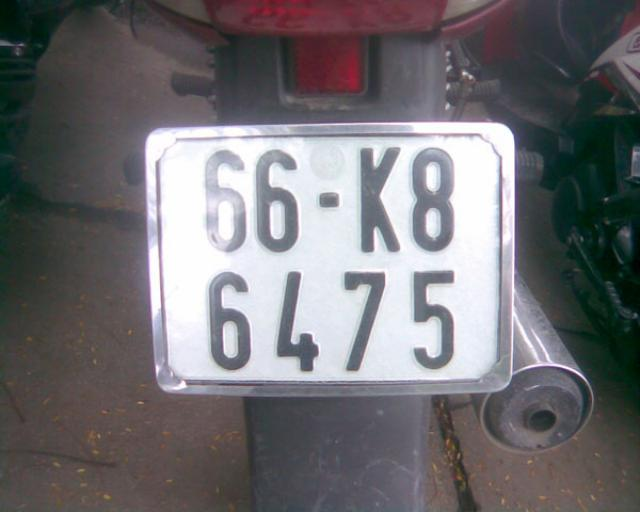plate: (157, 130, 509, 384)
